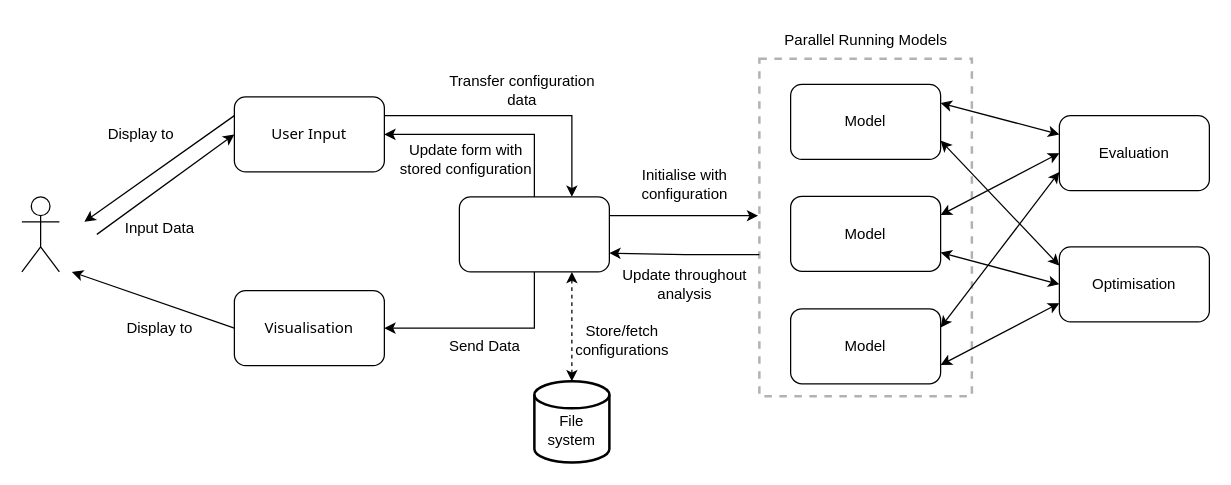
Some shapes in this 1231 by 485 pixel diagram are drawn without their labels. Each missing label, with the centre of its shape:
Data Processing: (533,234)
User: (40,234)
